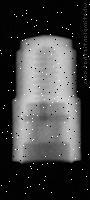DENTSPLY: (11, 34, 82, 163)
